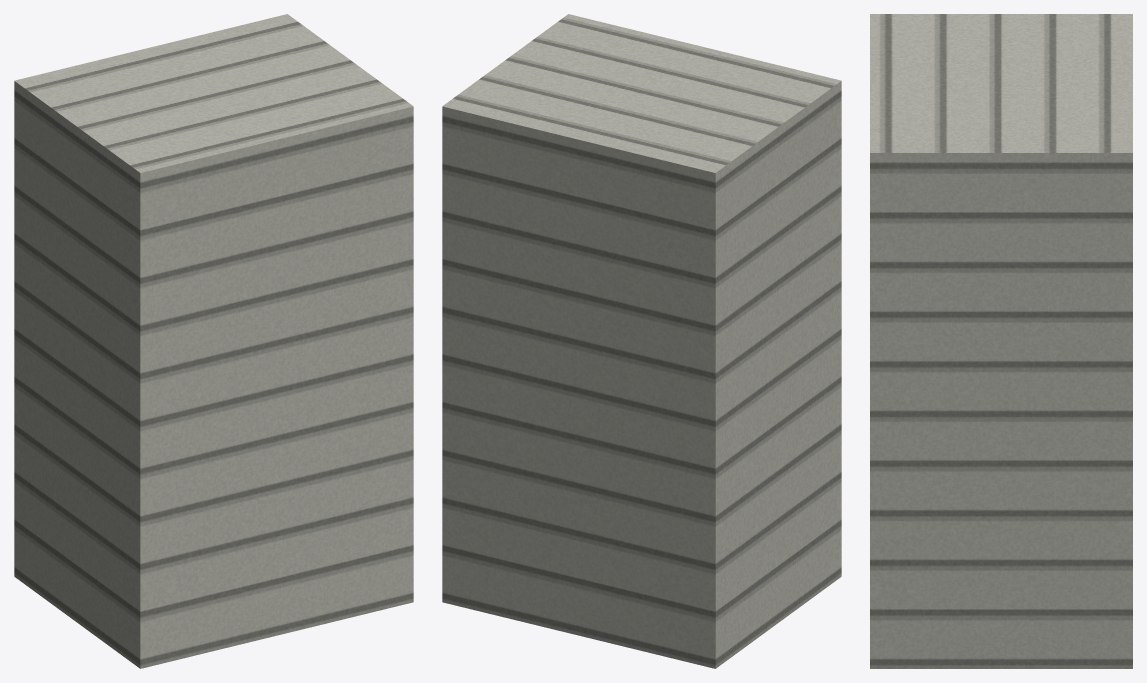
The model's file is study_carrel.glb.
3 renders of one model, left to right at view 1: azimuth 30°, elevation 25°; view 2: azimuth 150°, elevation 25°; view 3: azimuth 270°, elevation 25°, orthographic. The views are drawn at different scales.
Visible parts, largest first — view 1: study_carrel-col; view 2: study_carrel-col; view 3: study_carrel-col.
Boxes of the visible parts, x1,y1,x2,y2 form: study_carrel-col: [14, 14, 413, 668]; study_carrel-col: [442, 14, 841, 668]; study_carrel-col: [870, 14, 1132, 668].
Size of the model in its own units: 0.75 by 1.3 by 0.6.
Materials: 1 (1 with a texture image).
